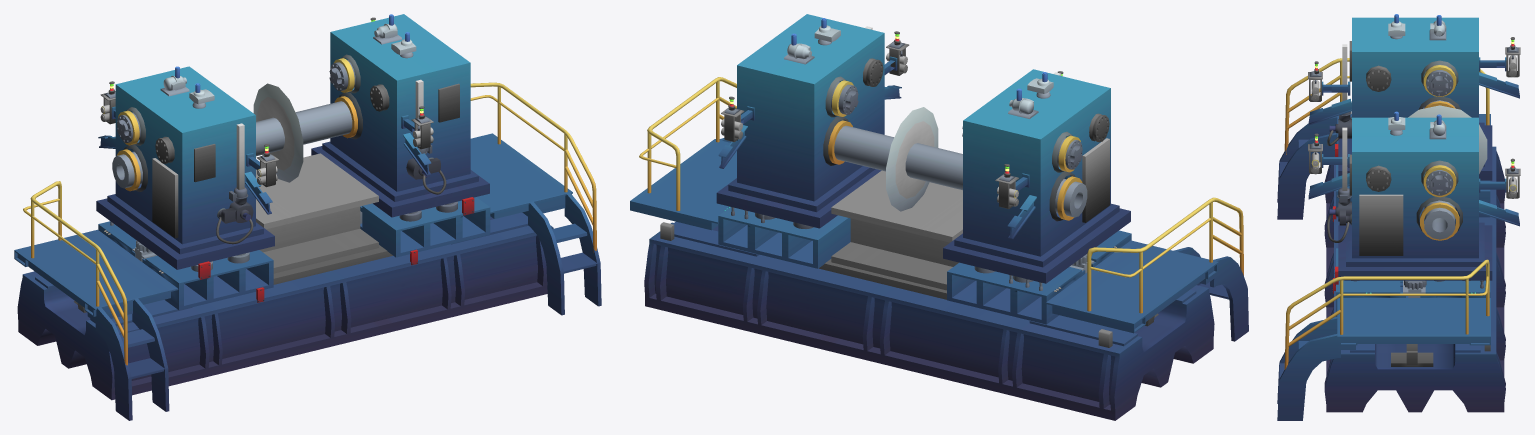
The model's file is Bianqieji.glb.
3 renders of one model, left to right at view 1: azimuth 30°, elevation 25°; view 2: azimuth 150°, elevation 25°; view 3: azimuth 270°, elevation 25°, orthographic. The views are drawn at different scales.
Visible parts, largest first — view 1: Bianqieji; view 2: Bianqieji; view 3: Bianqieji.
Part boxes in pixels (left/top/right/bottom): Bianqieji: left=14, top=14, right=601, bottom=420; Bianqieji: left=630, top=14, right=1248, bottom=420; Bianqieji: left=1277, top=14, right=1520, bottom=420.
Bounding box in the file's own units: 29.32 × 15.18 × 13.53.
Materials: 2 (2 with a texture image).
